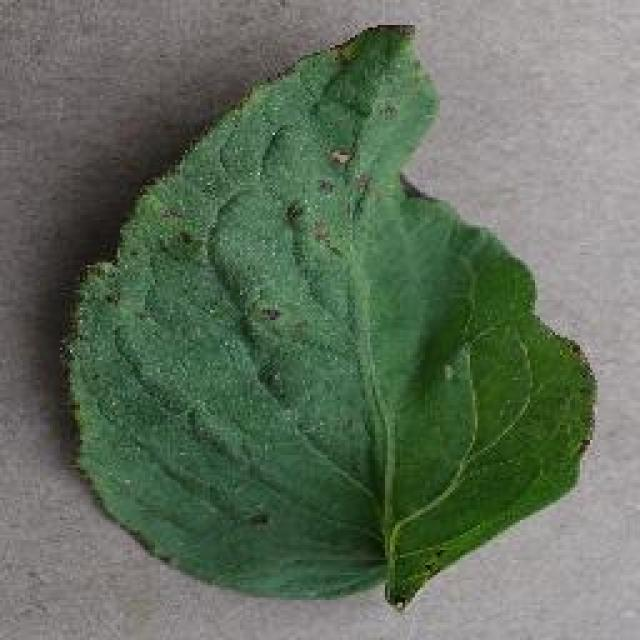Tom_Bacterial_spot: (329, 21, 440, 121), (281, 150, 389, 252)
